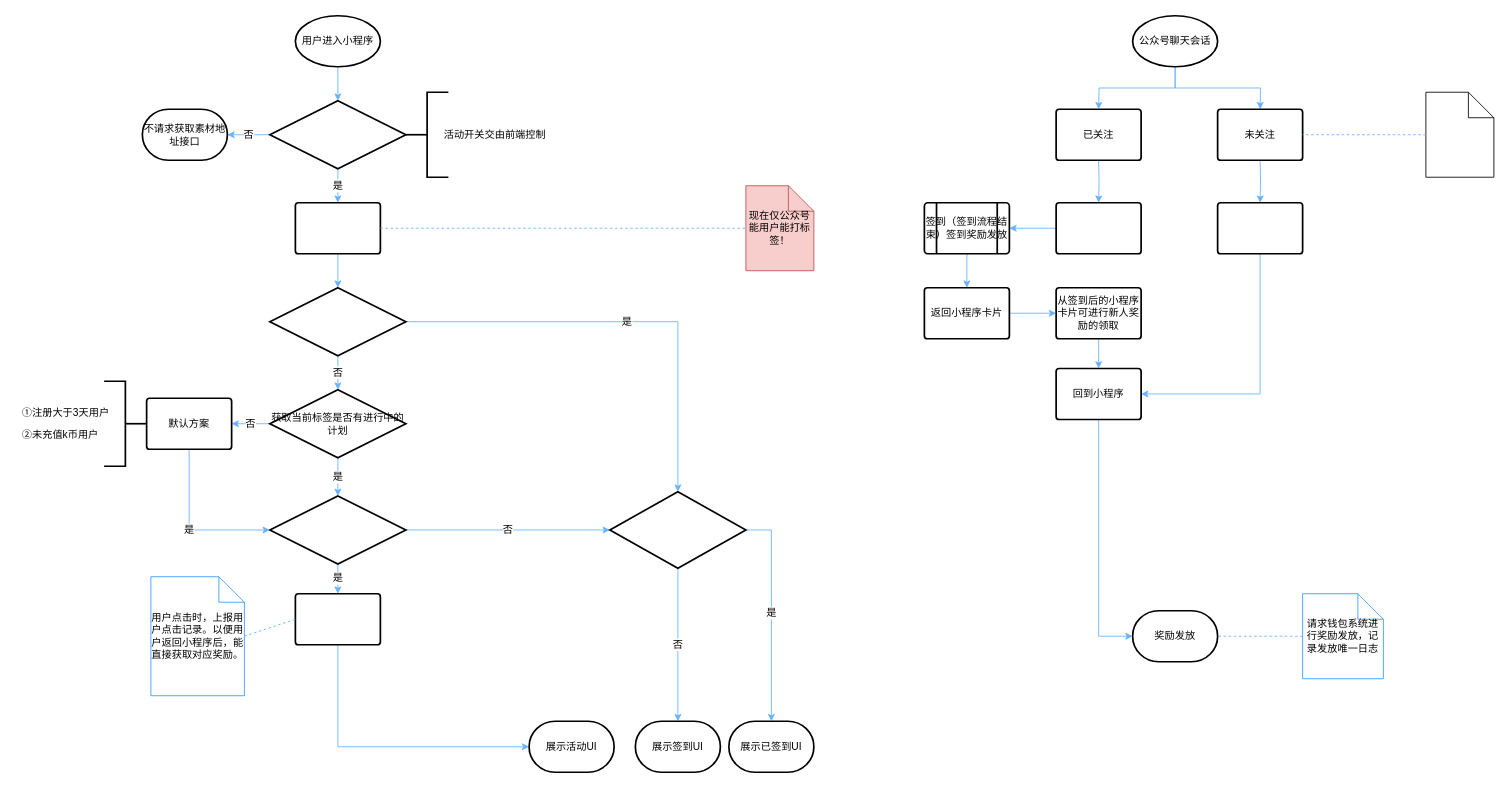
Some shapes in this 1509 by 787 pixel diagram are drawn without their labels. Each missing label, with the centre of its shape:
"仅能进行签到" goes at [1098,227].
"判断小程序中活动开关是否开启" goes at [337,134].
"判断当前用户是否获取过新人奖励" goes at [337,321].
"判断用户今天是否签到" goes at [677,529].
"所有关注的用户全部都要发送小程序卡片客服消息" goes at [1459,134].
"用户条件是是否符合计划中的条件" goes at [337,529].
"获取小程序用户标签" goes at [337,227].
"返回‘点击这里返回小程序的’小程序卡片" goes at [1259,227].
"返回新人活动素材页地址" goes at [337,618].
